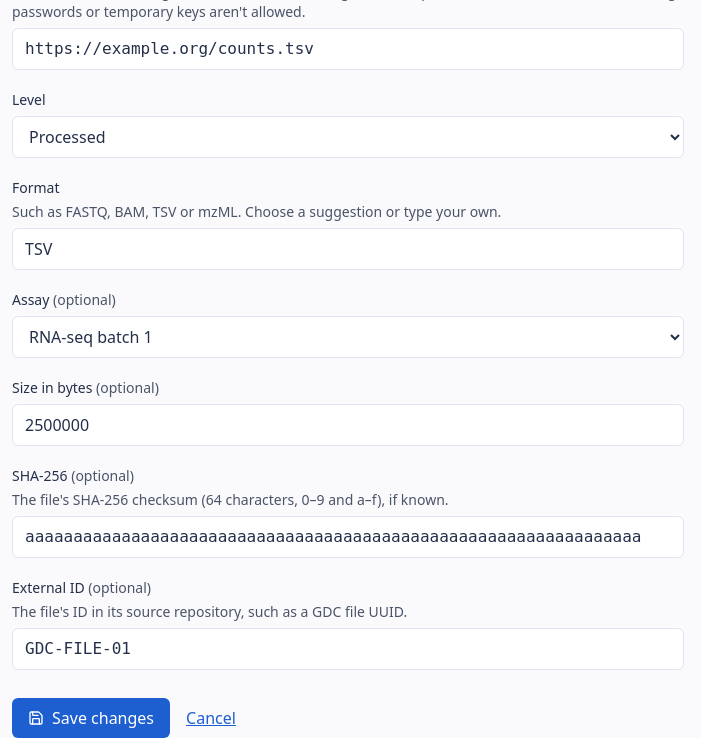
Test: EditDataFilePage › shows the API's explanation when a change breaks a rule
(page scrolled)
What coordinates should you click on to do the following:
click the button "Save changes"
I would click on:
 (91, 718)
Its box is [12,698,170,737].
(page scrolled)
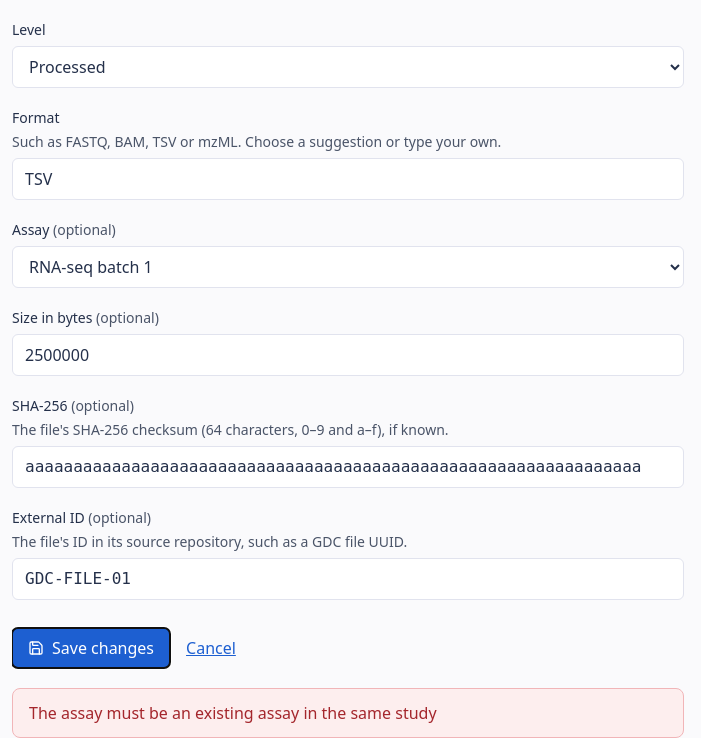
Expected: the message reads "The assay must be an existing assay in the same study", [29,702,437,724]
